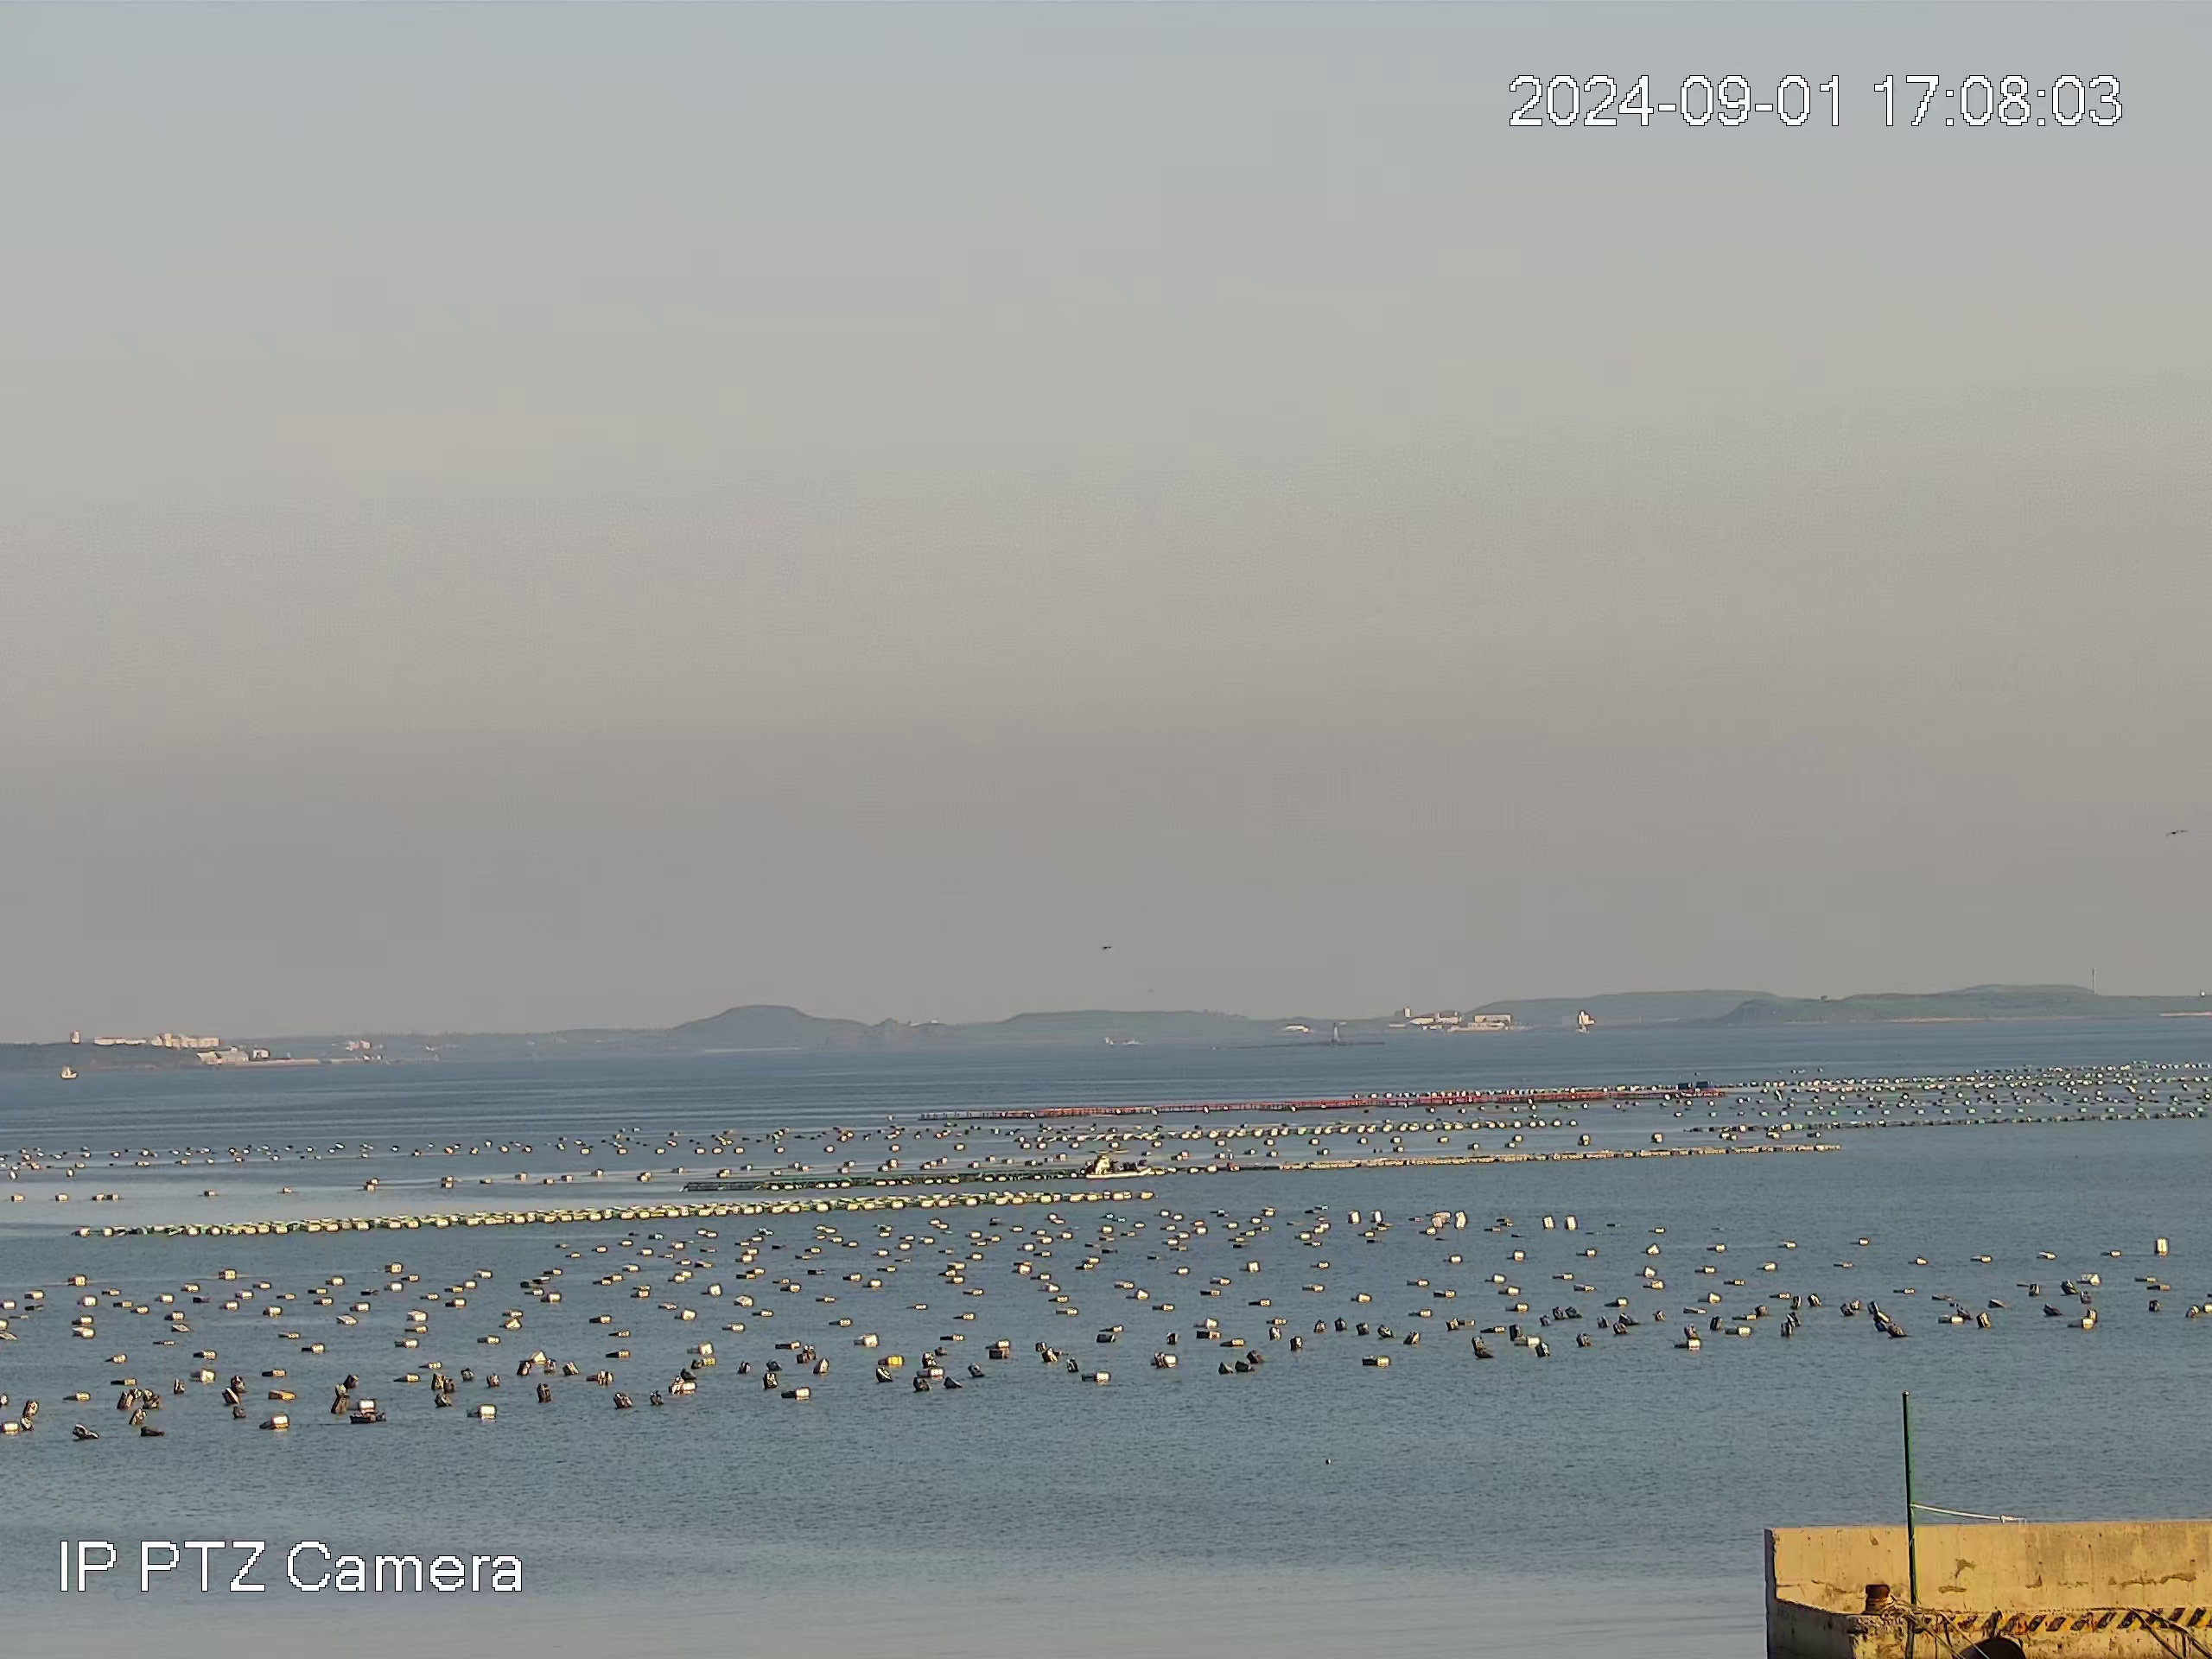boat: (1085, 1150, 1150, 1176)
